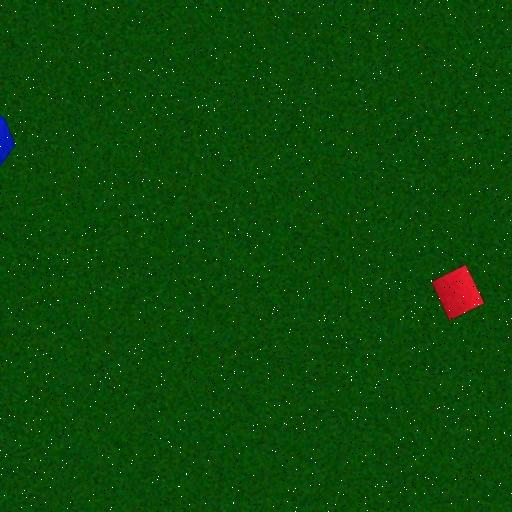RED_SQUARE: (430, 264, 486, 321)
